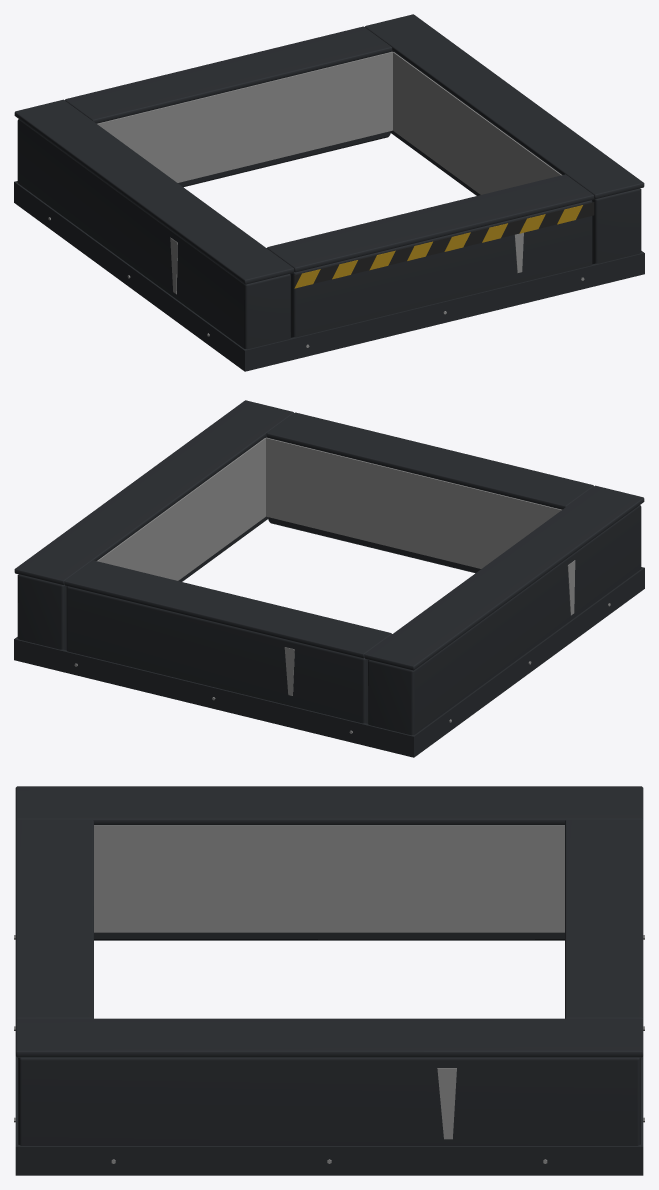
The model's file is Roof_Hatch_Frame.fbx.
The picture shows the model from 3 angles, top to bottom: view 1: azimuth 30°, elevation 25°; view 2: azimuth 150°, elevation 25°; view 3: azimuth 270°, elevation 25°; orthographic projection. The views are drawn at different scales.
Parts seen in each view (by area): view 1: Roof_Hatch_Frame_LOD0; view 2: Roof_Hatch_Frame_LOD0; view 3: Roof_Hatch_Frame_LOD0.
Part boxes in pixels (x1,y1,x2,y2): Roof_Hatch_Frame_LOD0: (14,14,644,371); Roof_Hatch_Frame_LOD0: (14,400,644,757); Roof_Hatch_Frame_LOD0: (14,786,644,1175).
Size of what is drawn, in the model's own units: 1.61 by 0.35 by 1.61.
